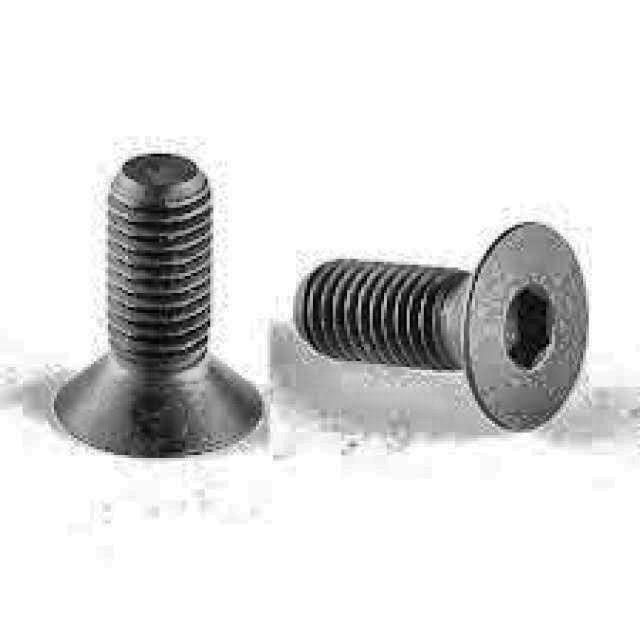allen: (467, 218, 592, 431)
